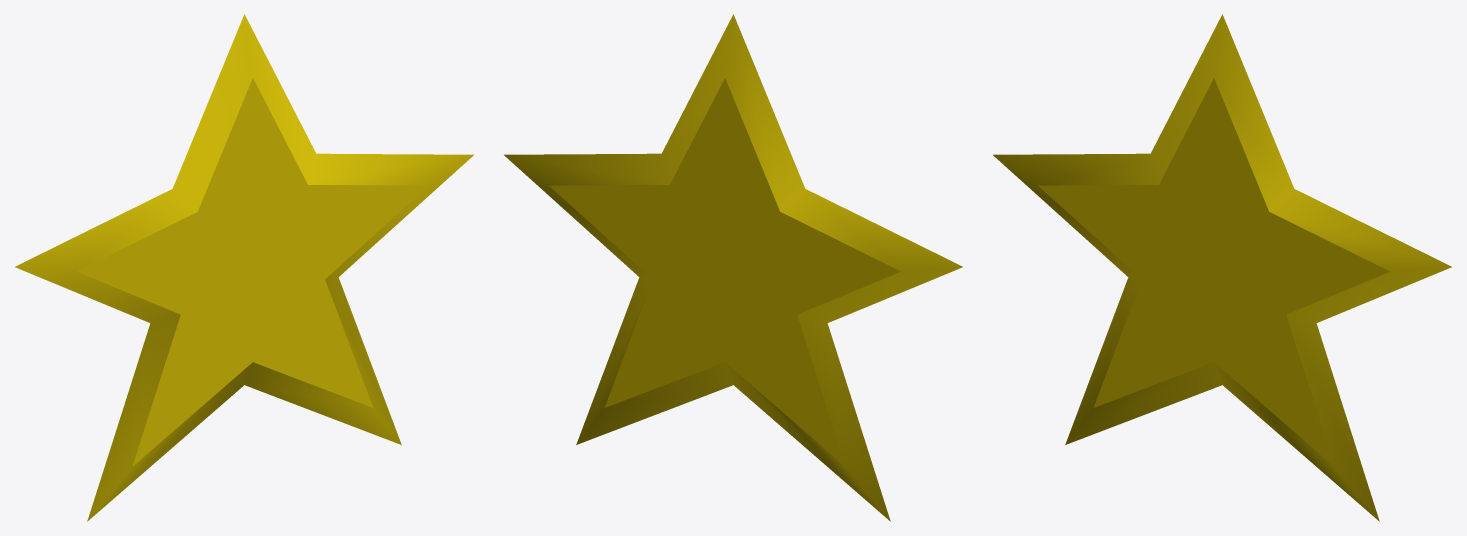
The model's file is ESTRELLA 1.fbx.
3 renders of one model, left to right at view 1: azimuth 30°, elevation 25°; view 2: azimuth 150°, elevation 25°; view 3: azimuth 330°, elevation 25°, orthographic.
Visible parts, largest first — view 1: Estrella coleccionable. GRANDE; view 2: Estrella coleccionable. GRANDE; view 3: Estrella coleccionable. GRANDE.
Boxes of the visible parts, x1,y1,x2,y2 form: Estrella coleccionable. GRANDE: [15, 14, 473, 521]; Estrella coleccionable. GRANDE: [504, 14, 962, 521]; Estrella coleccionable. GRANDE: [993, 14, 1451, 521].
Size of the model in its own units: 1014 by 989 by 64.24.
